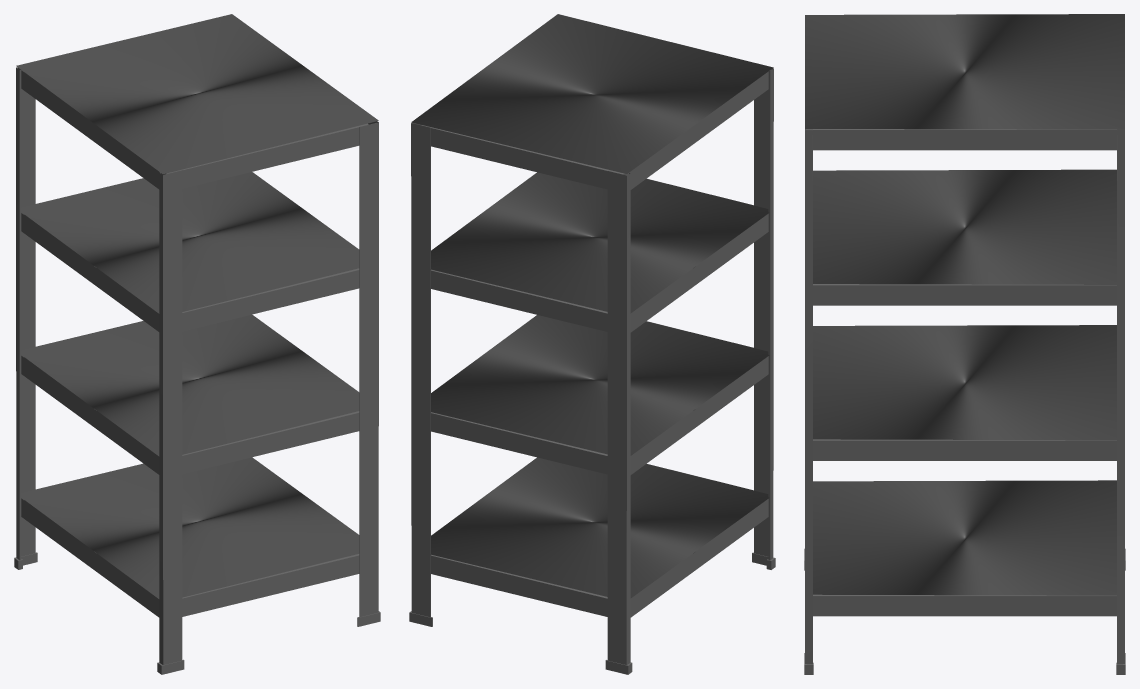
Rendered from shelve2.fbx.
The picture shows the model from 3 angles, left to right: view 1: azimuth 30°, elevation 25°; view 2: azimuth 150°, elevation 25°; view 3: azimuth 270°, elevation 25°; orthographic projection. The views are drawn at different scales.
Visible parts, largest first — view 1: Shelf; view 2: Shelf; view 3: Shelf.
Part boxes in pixels (<box>): Shelf: <box>14,14,380,674</box>; Shelf: <box>409,14,775,674</box>; Shelf: <box>804,14,1125,674</box>.
Size of the model in its own units: 101 by 220 by 117.
Materials: 1 (1 with a texture image).
